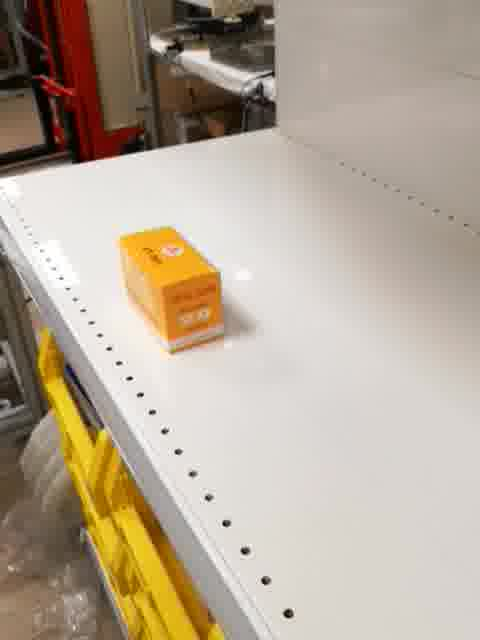jasminetea: (119, 223, 227, 356)
